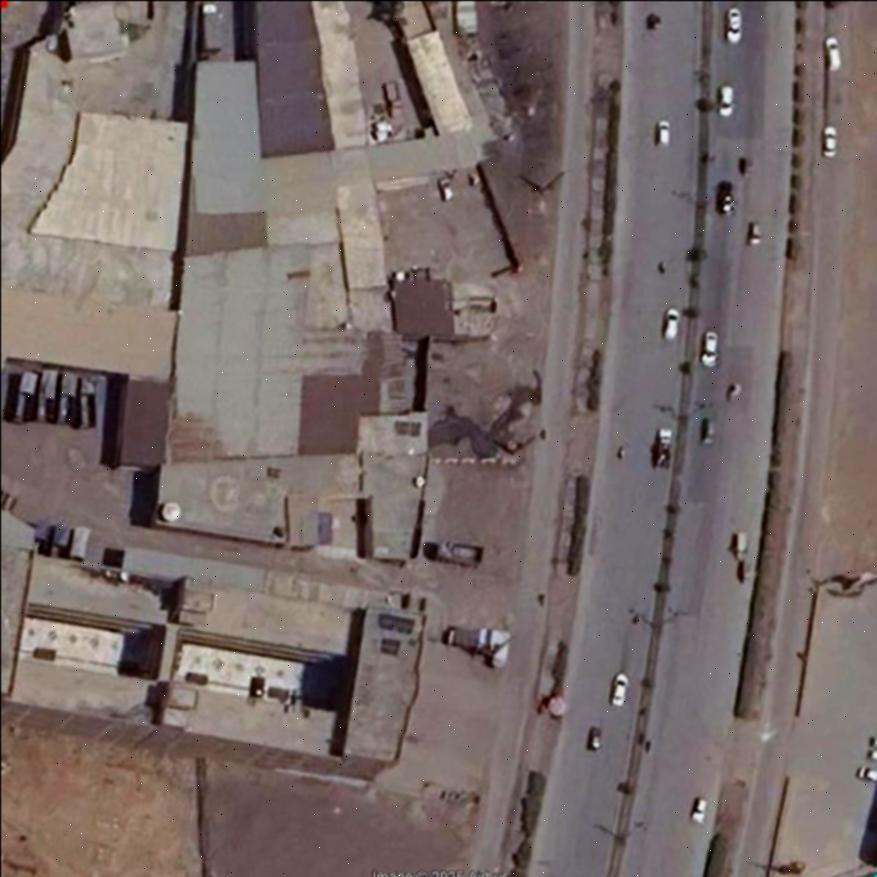Solarpanel: (377, 612, 414, 633)
